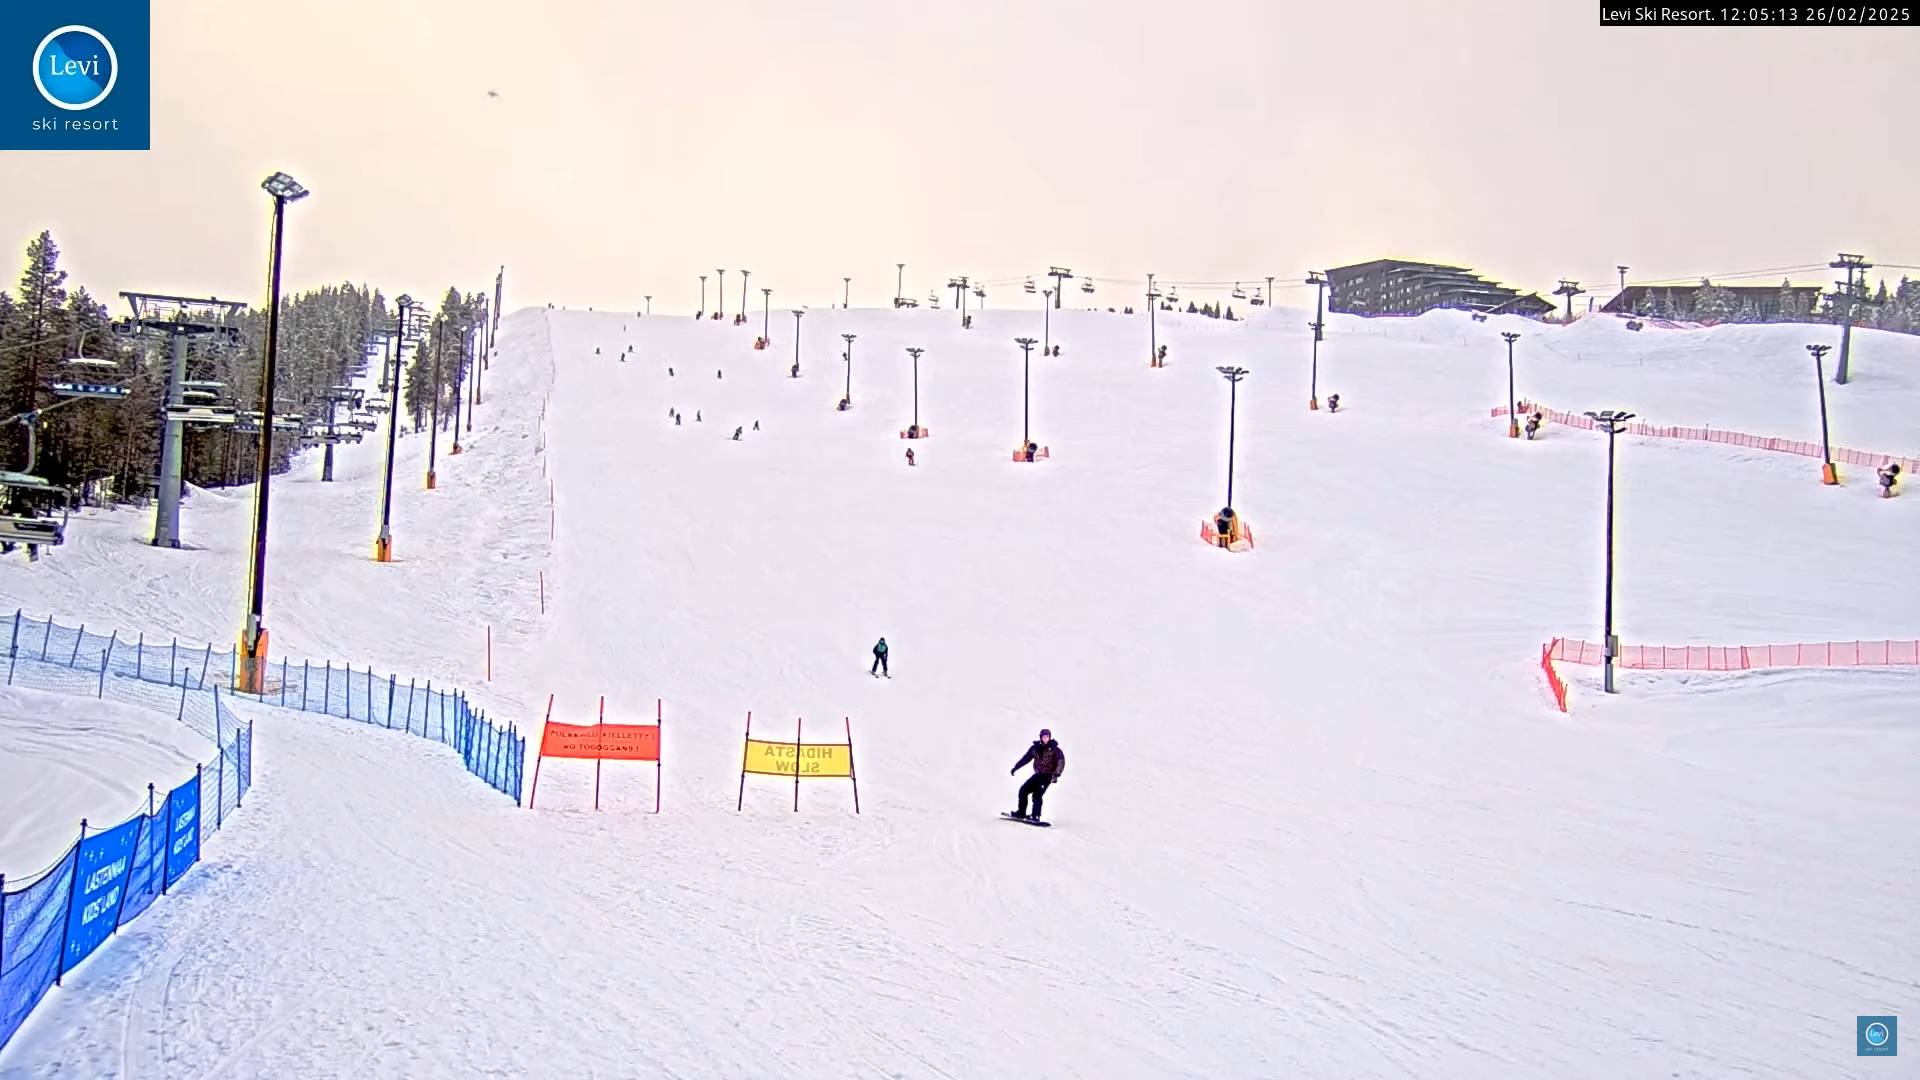skier: (865, 634, 898, 684)
snowboarder: (997, 725, 1065, 839)
